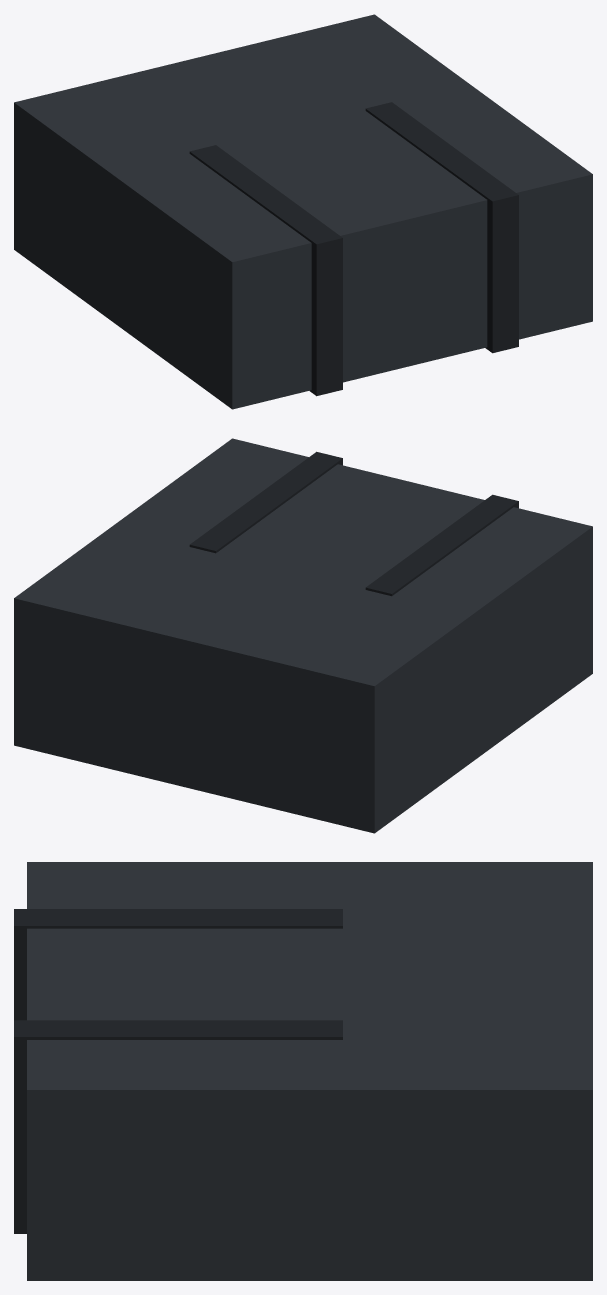
Rendered from pc_recon_hand.fbx.
3 renders of one model, top to bottom at view 1: azimuth 30°, elevation 25°; view 2: azimuth 150°, elevation 25°; view 3: azimuth 270°, elevation 25°, orthographic. The views are drawn at different scales.
Visible parts, largest first — view 1: pc_recon_hand; view 2: pc_recon_hand; view 3: pc_recon_hand.
Boxes of the visible parts, left/top/right/bottom form: pc_recon_hand: left=14, top=14, right=592, bottom=409; pc_recon_hand: left=14, top=438, right=592, bottom=833; pc_recon_hand: left=14, top=862, right=592, bottom=1280.
Bounding box in the file's own units: 82 × 33 × 88.
